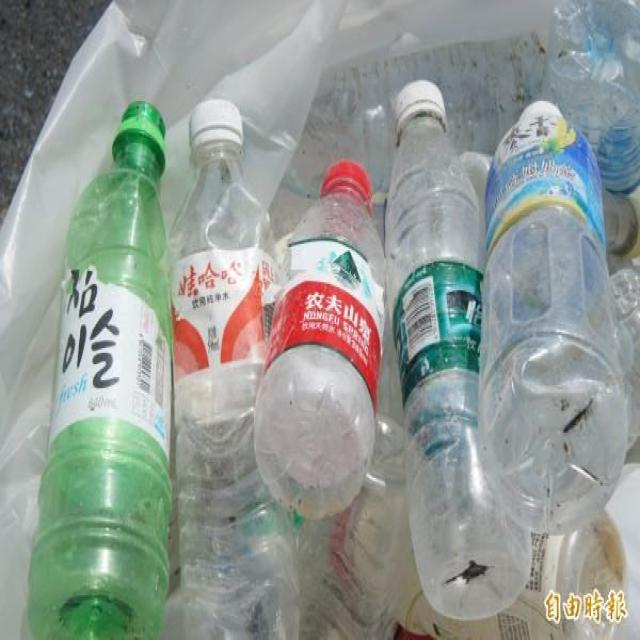bottle: (382, 82, 534, 621), (25, 102, 171, 632), (170, 94, 300, 640), (486, 94, 616, 544), (249, 158, 383, 516)
